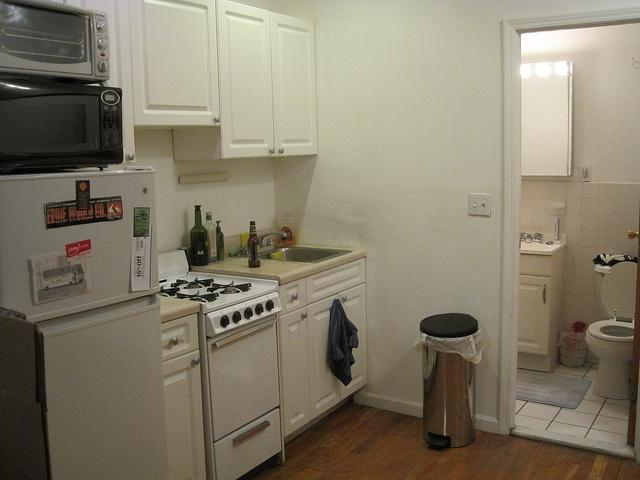Lemari: (126, 0, 318, 159)
